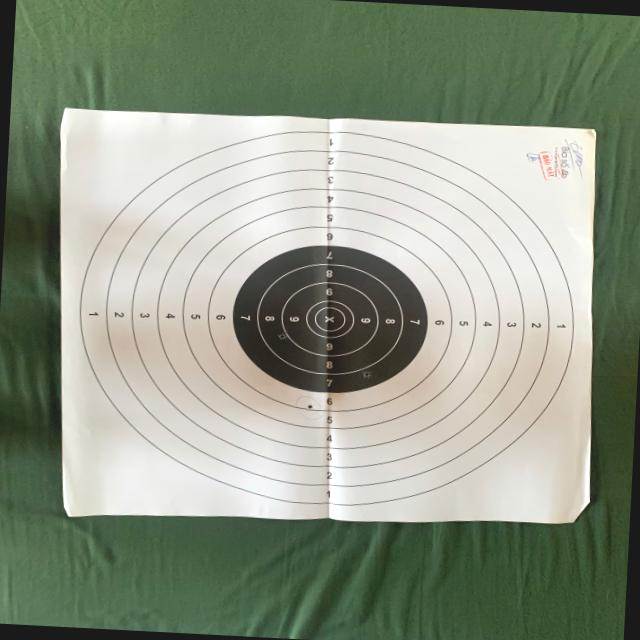bullet: (363, 372, 371, 378), (279, 334, 287, 340), (308, 404, 312, 409)
target: (61, 109, 595, 523)
